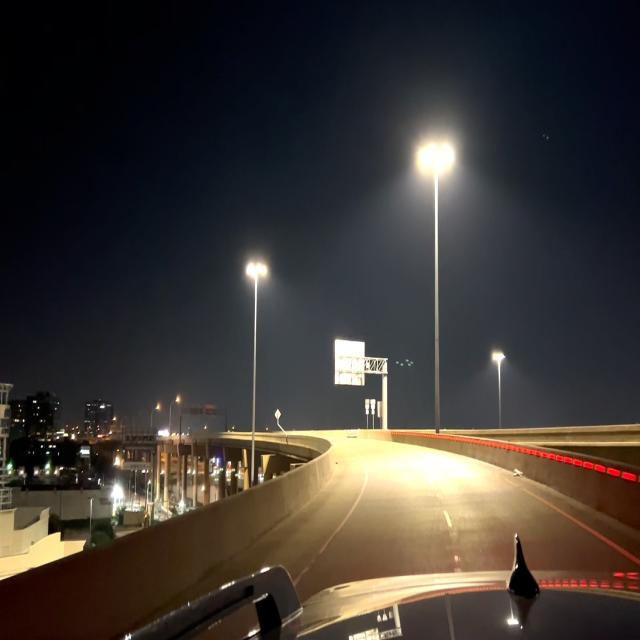back-of-sign: (335, 337, 366, 387)
